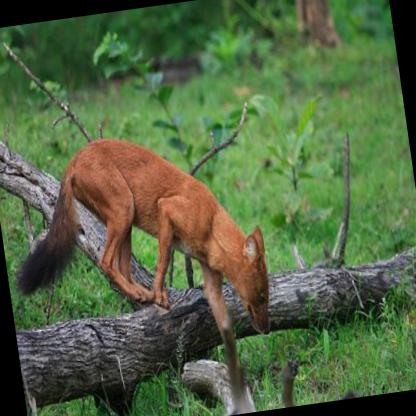dhole: (0, 118, 283, 405)
